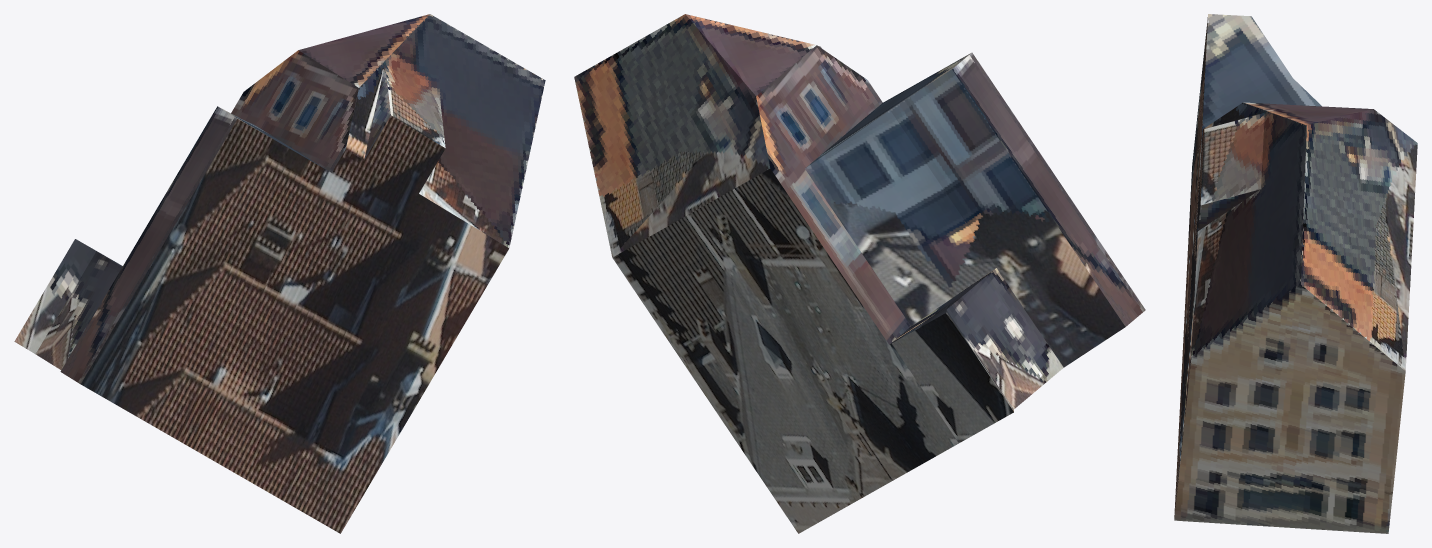
The picture shows the model from 3 angles, left to right: view 1: azimuth 30°, elevation 25°; view 2: azimuth 150°, elevation 25°; view 3: azimuth 270°, elevation 25°; orthographic projection. The views are drawn at different scales.
Visible parts, largest first — view 1: BAG_0599100000760363 (×4); view 2: BAG_0599100000760363 (×5); view 3: BAG_0599100000760363 (×3).
Part boxes in pixels (x1,y1,x2,y2): BAG_0599100000760363 (×4): (14,14,545,533); BAG_0599100000760363 (×5): (574,14,1145,533); BAG_0599100000760363 (×3): (1174,14,1417,533).
Bounding box in the file's own units: 23.53 × 19.64 × 8.89.
1 material, 1 textured.
